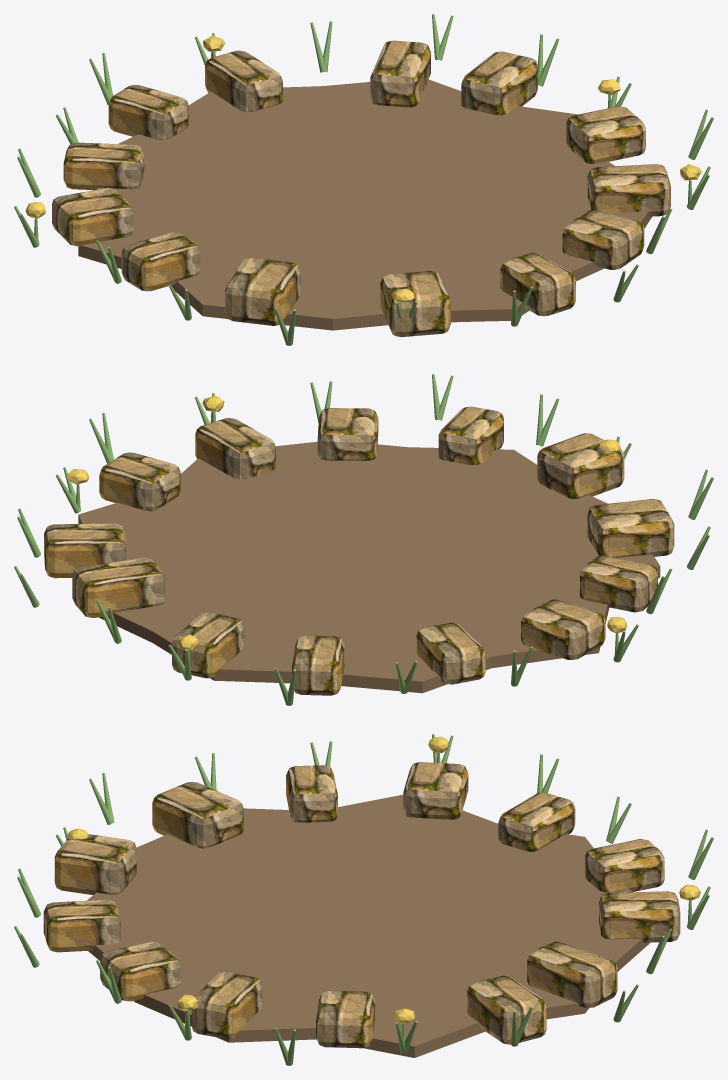
File: oak_courtyard_base.glb
3 renders of one model, top to bottom at view 1: azimuth 30°, elevation 25°; view 2: azimuth 150°, elevation 25°; view 3: azimuth 270°, elevation 25°, orthographic.
Parts seen in each view (by area): view 1: Warm mulched earth, Painted irregular edging stone, Soft verge grass, Small buttercup gold; view 2: Warm mulched earth, Painted irregular edging stone, Soft verge grass, Small buttercup gold; view 3: Warm mulched earth, Painted irregular edging stone, Soft verge grass, Small buttercup gold.
Boxes of the visible parts, x1,y1,x2,y2 form: Warm mulched earth: (78, 79, 651, 330); Painted irregular edging stone: (52, 40, 670, 337); Soft verge grass: (14, 14, 713, 345); Small buttercup gold: (25, 35, 701, 302); Warm mulched earth: (78, 441, 660, 693); Painted irregular edging stone: (44, 406, 674, 695); Soft verge grass: (14, 374, 713, 705); Small buttercup gold: (67, 395, 627, 650); Warm mulched earth: (87, 794, 650, 1057); Painted irregular edging stone: (43, 762, 680, 1048); Soft verge grass: (14, 734, 713, 1065); Small buttercup gold: (67, 736, 700, 1024).
Size of the model in its own units: 6.69 by 0.5352 by 6.56.
Materials: 4 (1 with a texture image).
